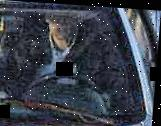seatbelt: (60, 20, 98, 72)
